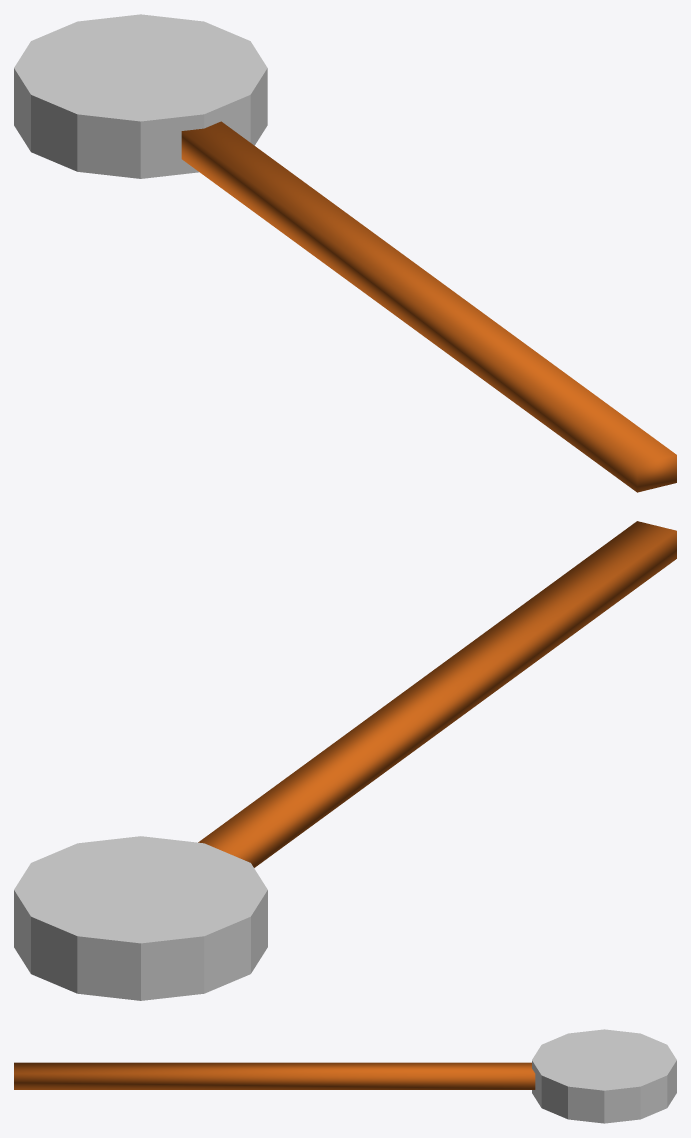
File: PonteiroPendulo.dae
3 views of the same model, one above another, from view 1: azimuth 30°, elevation 25°; view 2: azimuth 150°, elevation 25°; view 3: azimuth 270°, elevation 25° (orthographic). The views are drawn at different scales.
Parts seen in each view (by area): view 1: Cube.002; view 2: Cube.002; view 3: Cube.002.
Boxes of the visible parts, x1=… form: Cube.002: x1=14, y1=14, x2=676, y2=492; Cube.002: x1=14, y1=521, x2=676, y2=1000; Cube.002: x1=14, y1=1029, x2=676, y2=1123.
Bounding box in the file's own units: 0.32 × 1.46 × 0.08.
